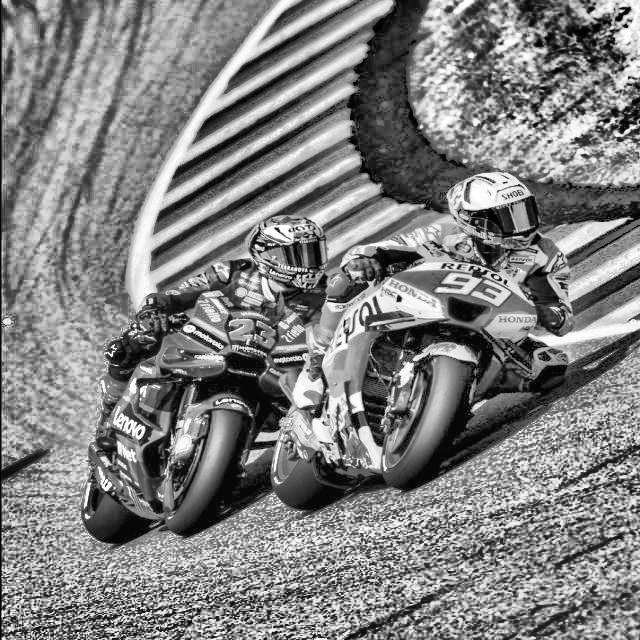Helmet: (441, 168, 545, 254), (244, 210, 332, 294)
